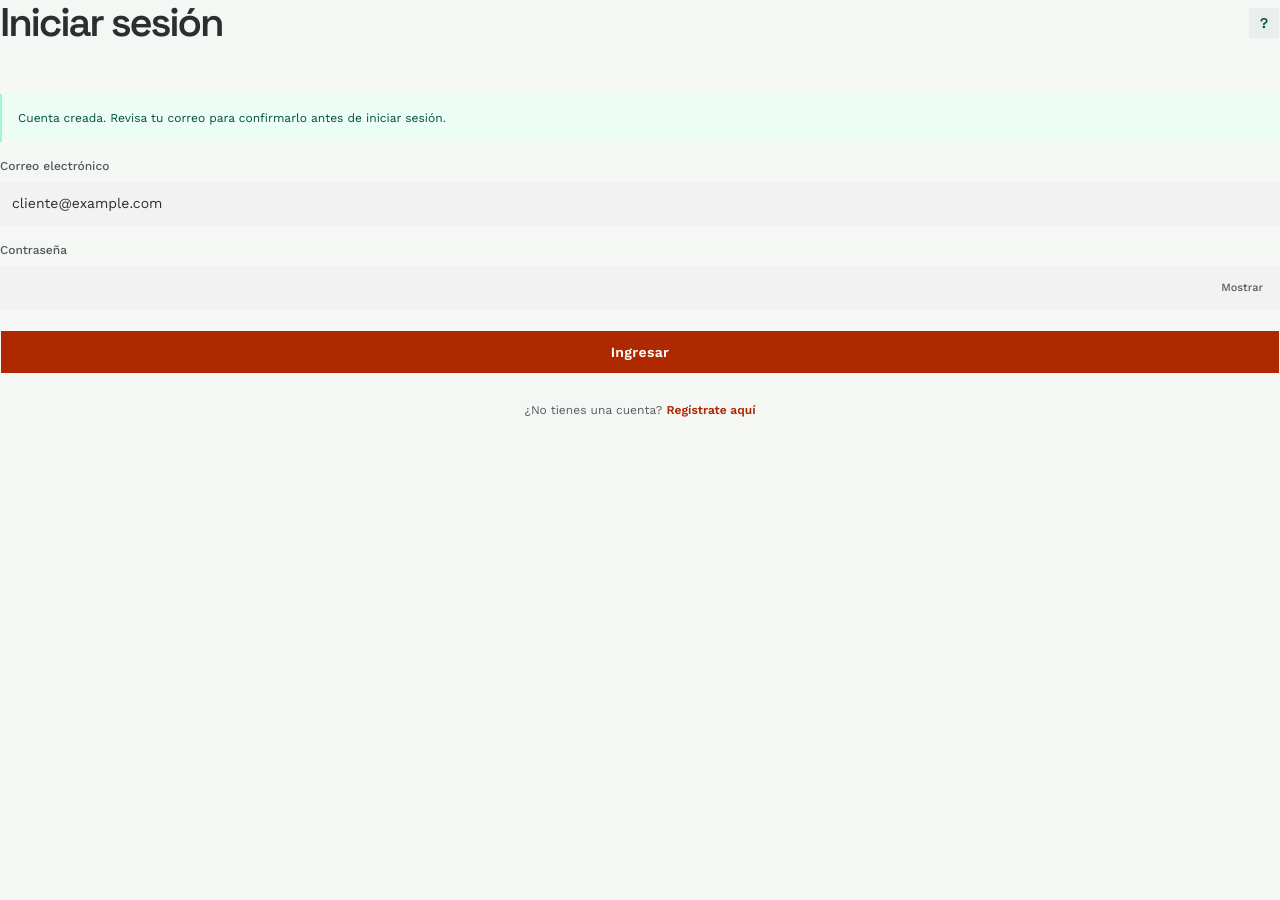
Test case: Login confirmation feedback › opens a dialog with the current email and keeps resend errors inside it
This screenshot has width=1280, height=900.
expect the button "Reenviar confirmación" is not shown: met
Replace the text in the field labelled "Correo electrónico" with "otro@example.com" at (640, 204), box [0,182,1279,226]
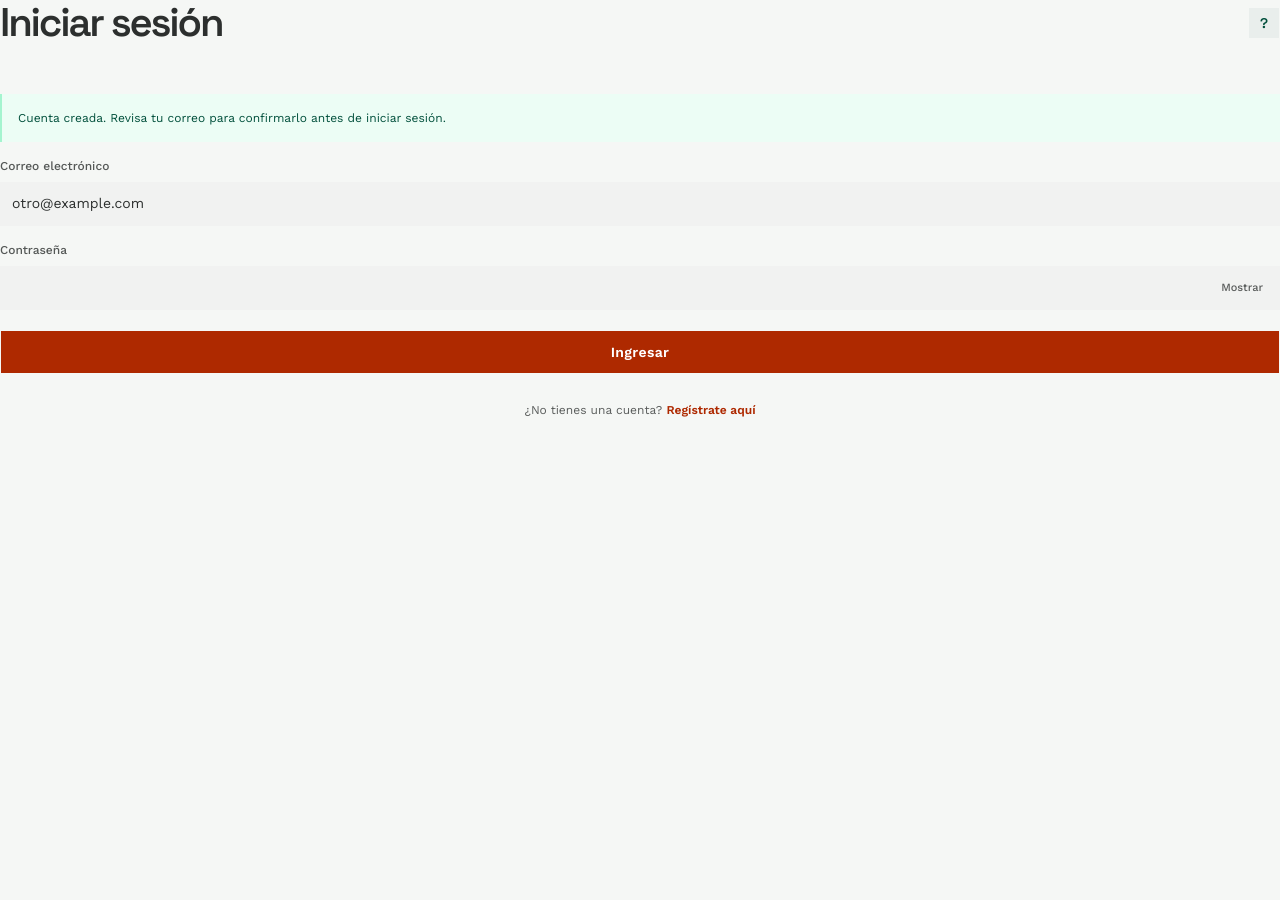
Click the button named "¿No te llegó el correo de confirmación?" at (1264, 23), box [1248,7,1279,39]
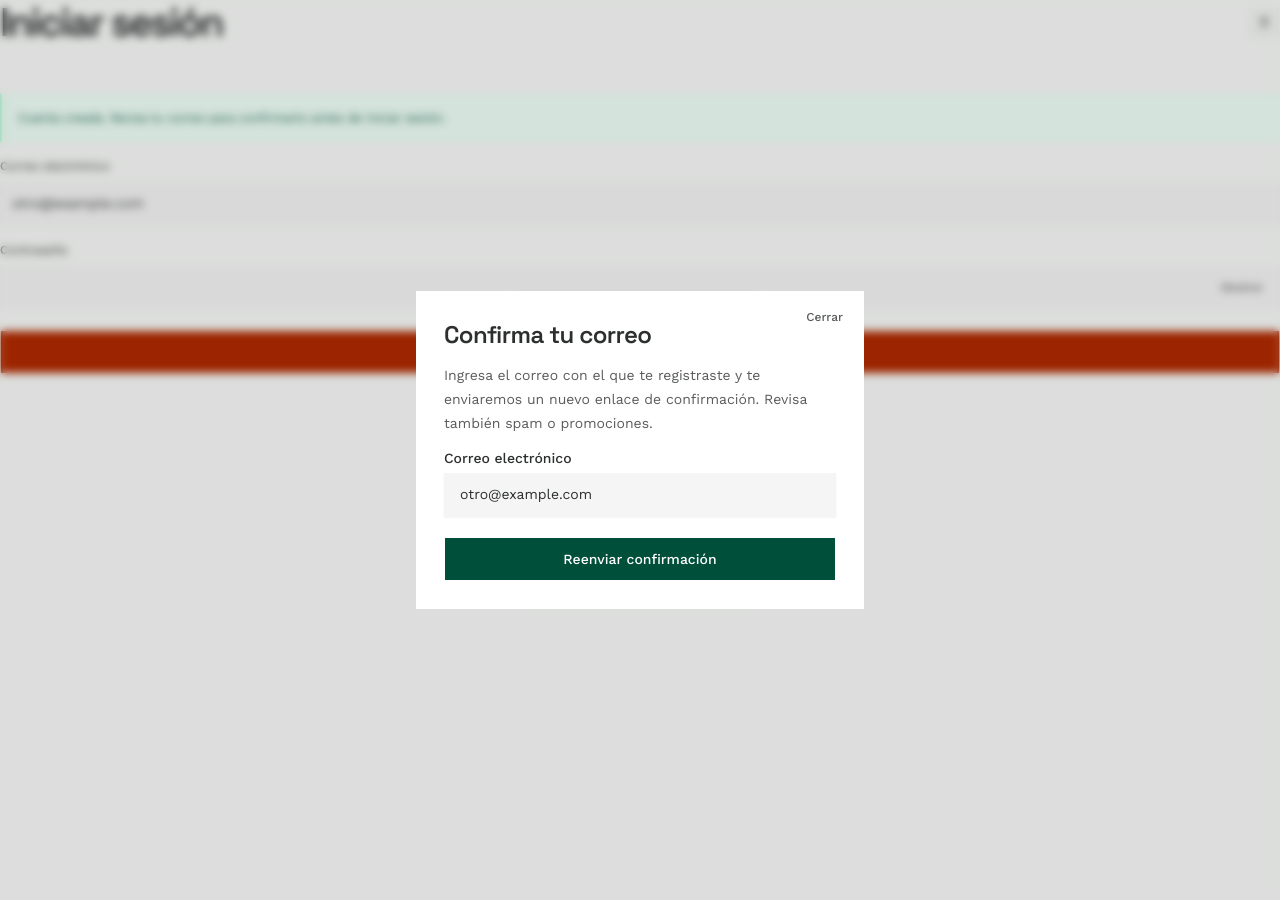
expect the field labelled "Correo electrónico" holds "otro@example.com": met, box [444,473,836,517]
Submit the form "Reenviar confirmación", box [444,451,836,581]
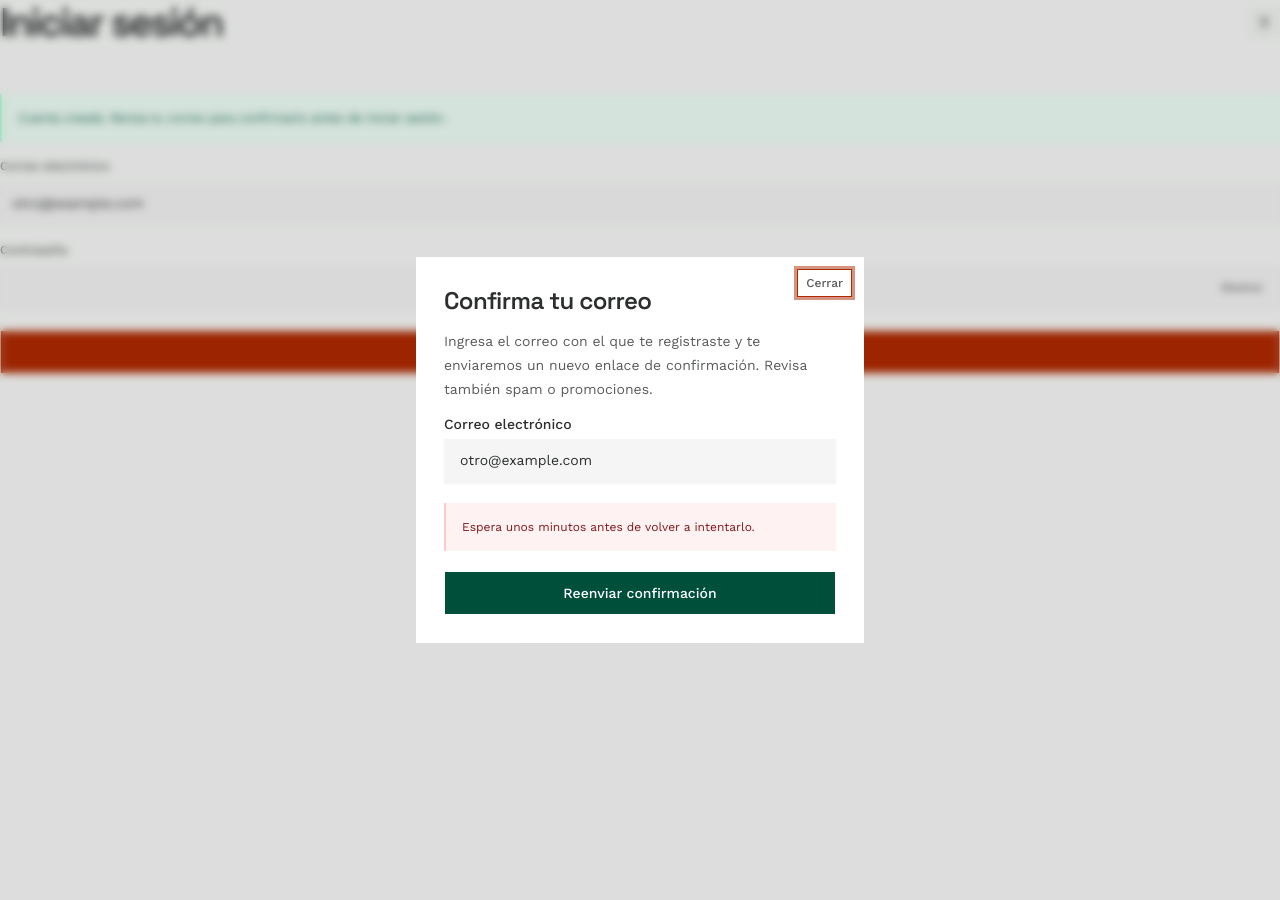
expect the message shows "Espera unos minutos": met, box [462,520,755,534]
Click the button "Cerrar" at (825, 283), box [797,269,852,297]
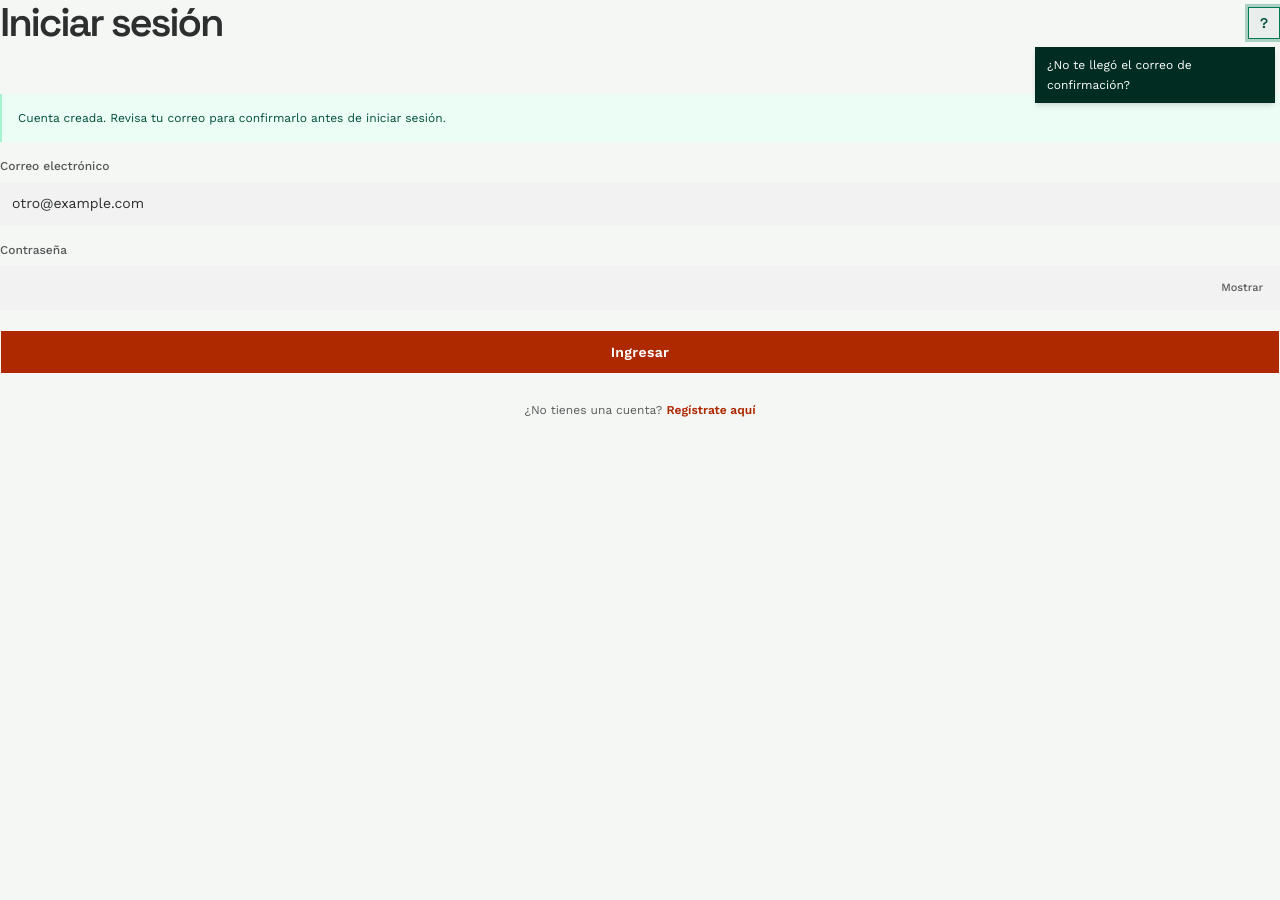
expect the message shows "Cuenta creada": met, box [18,111,446,125]
expect the dialog is gone: met
